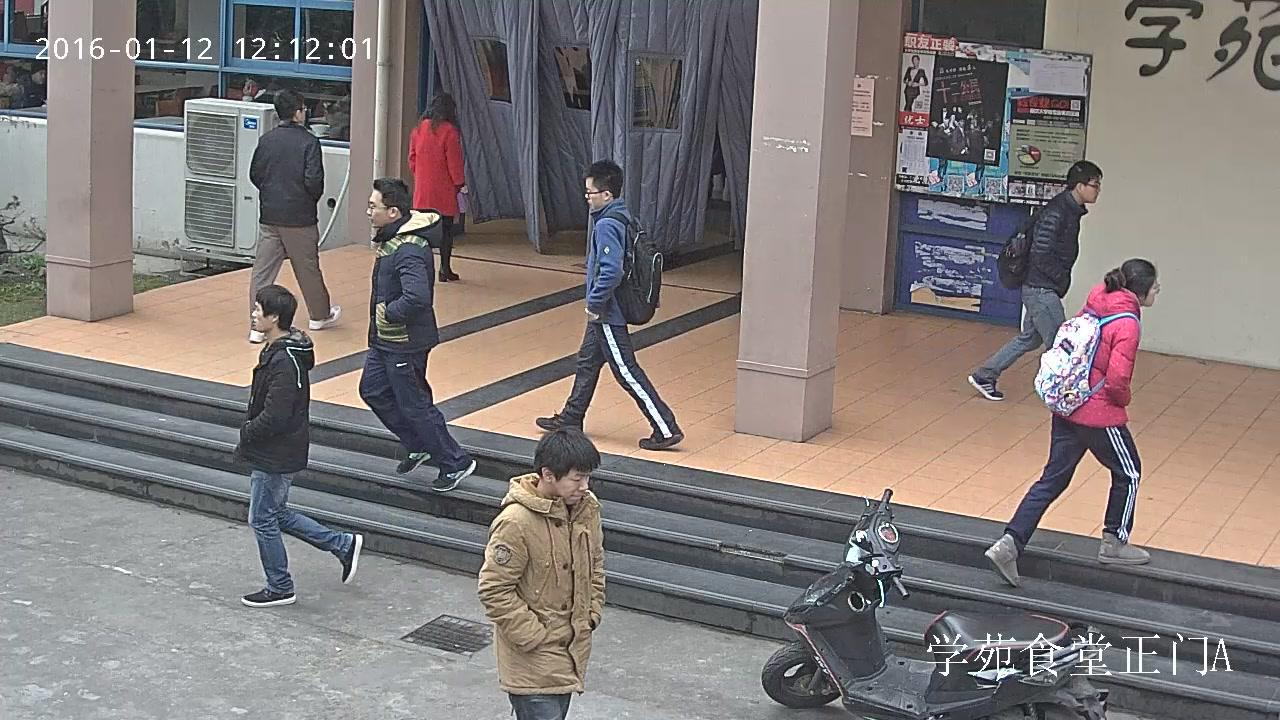person: (985, 258, 1160, 588), (536, 159, 684, 450), (233, 284, 364, 606), (476, 424, 605, 720), (358, 177, 478, 492), (968, 160, 1102, 400), (247, 88, 342, 342), (406, 93, 468, 282), (319, 90, 350, 141), (14, 62, 47, 108), (902, 54, 928, 112)
